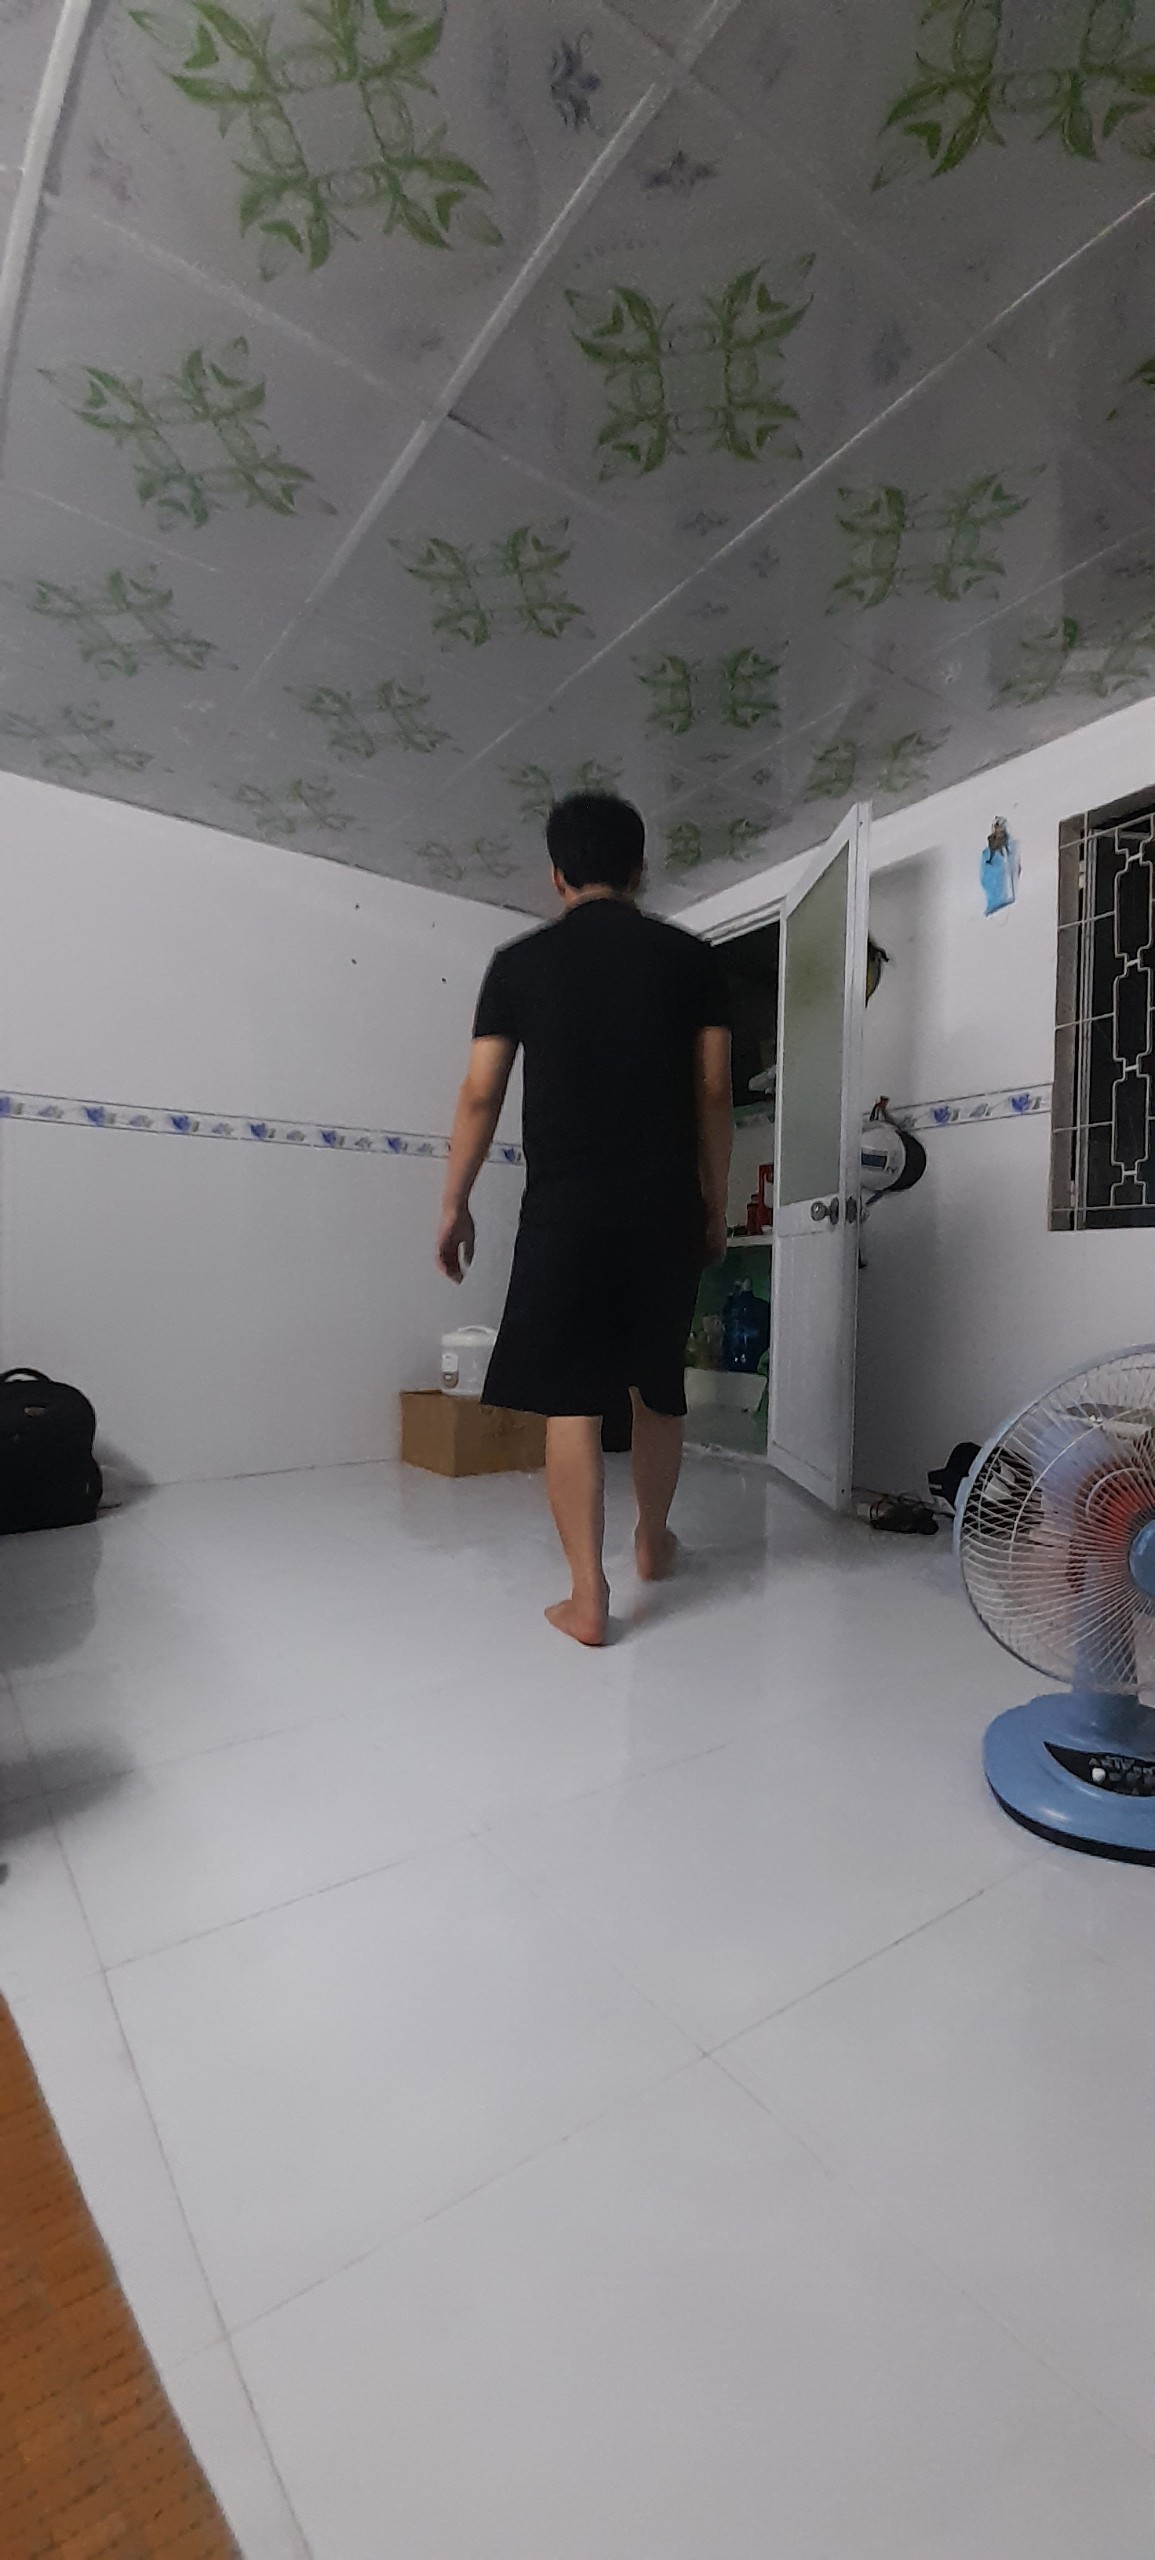person: (508, 795, 738, 1657)
